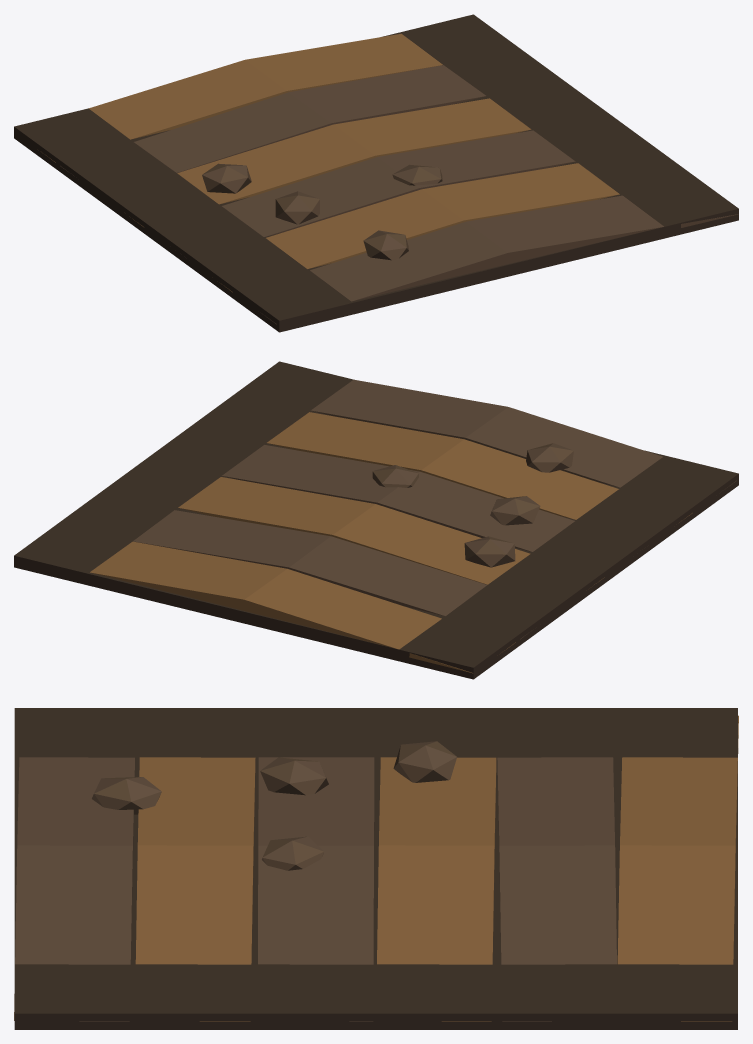
The model's file is prop_tilled_soil_tile_a.glb.
The picture shows the model from 3 angles, top to bottom: view 1: azimuth 30°, elevation 25°; view 2: azimuth 150°, elevation 25°; view 3: azimuth 270°, elevation 25°; orthographic projection. The views are drawn at different scales.
Visible parts, largest first — view 1: soil_pan, soil_clod_0; view 2: soil_pan, soil_clod_0; view 3: soil_pan, soil_clod_0.
Boxes of the visible parts, <box> form: soil_pan: <box>14,14,738,332</box>; soil_clod_0: <box>60,65,738,324</box>; soil_pan: <box>14,361,738,679</box>; soil_clod_0: <box>133,379,736,639</box>; soil_pan: <box>14,708,738,1029</box>; soil_clod_0: <box>14,741,616,1021</box>.
Bounding box in the file's own units: 0.9814 × 0.066 × 0.9824.
